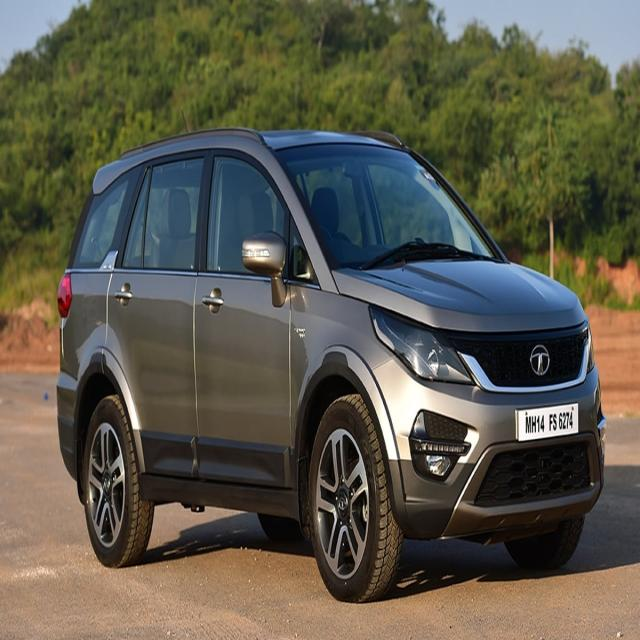Car: (49, 109, 606, 596)
